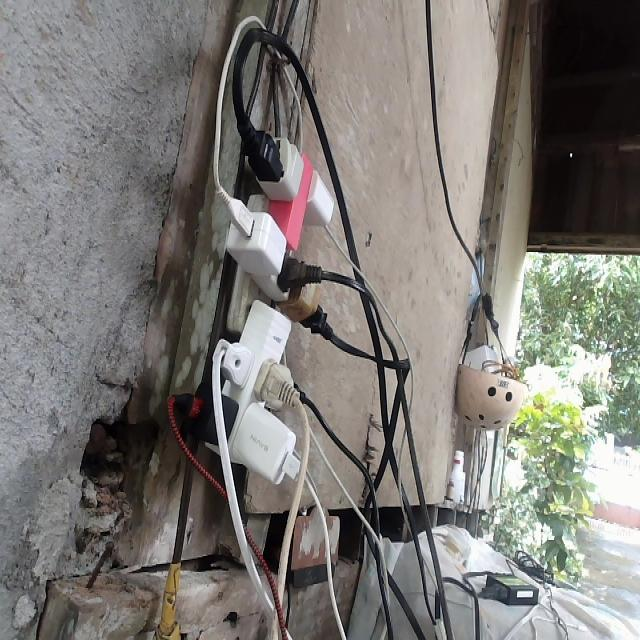-: (205, 130, 338, 487)
